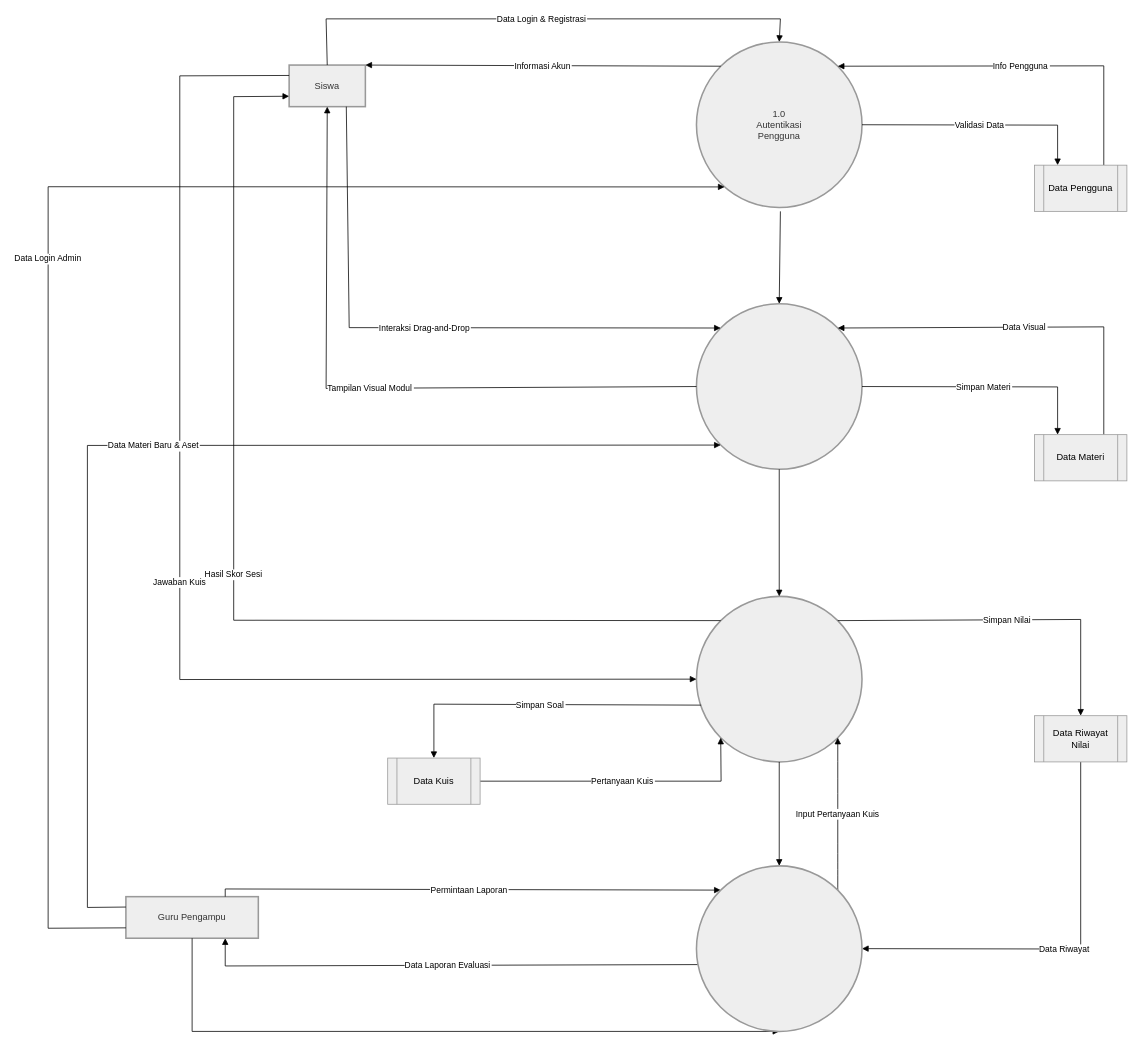
Image size: 1140x1051. Some labels were removed from this diagram. Here are the shapes that lost their labels. From the top down, the box of each, then its label:
(695, 303, 862, 470): 2.0 Pengelolaan Modul & Simulasi
(695, 595, 862, 762): 3.0 Pelaksanaan Kuis & Evaluasi
(695, 865, 862, 1032): 4.0 Pembuatan Laporan Nilai
